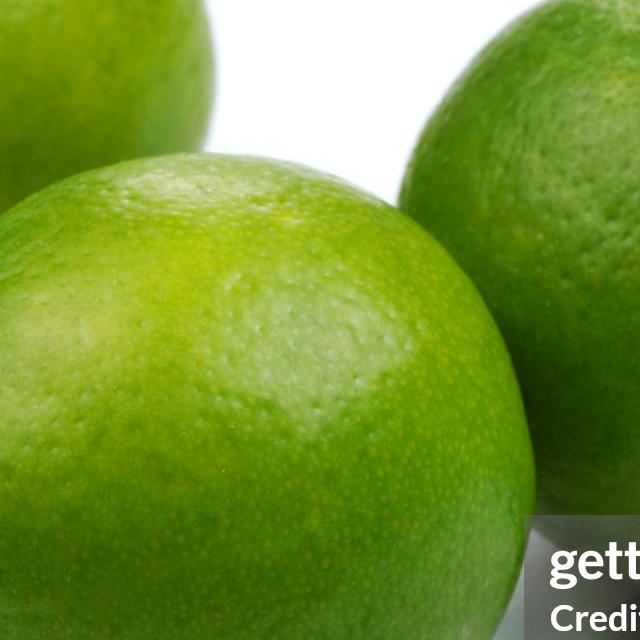lime: (0, 153, 540, 640), (393, 0, 640, 527)
